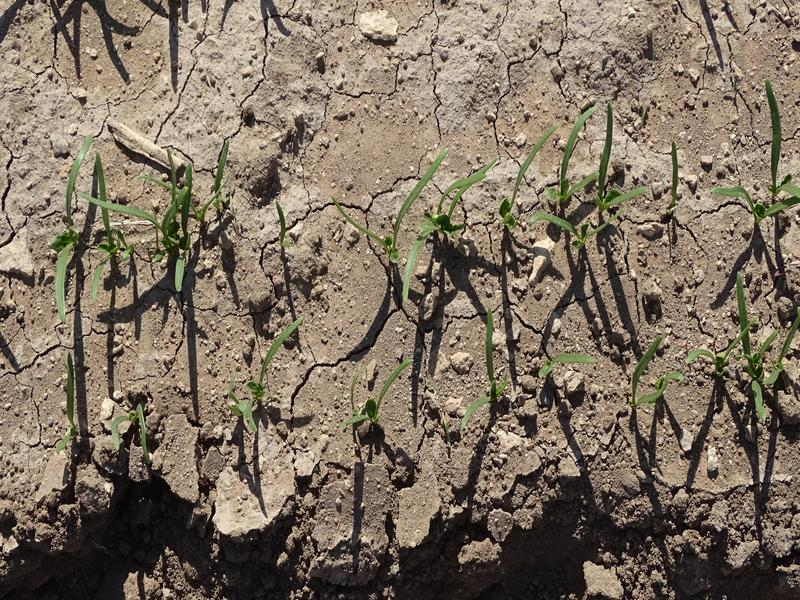Espinaca: (409, 125, 645, 294), (38, 149, 243, 299), (693, 275, 795, 418), (712, 85, 800, 219), (231, 316, 309, 430), (338, 353, 419, 436), (630, 341, 685, 411), (51, 356, 88, 452), (454, 372, 510, 434), (533, 348, 600, 385), (107, 405, 150, 454)
